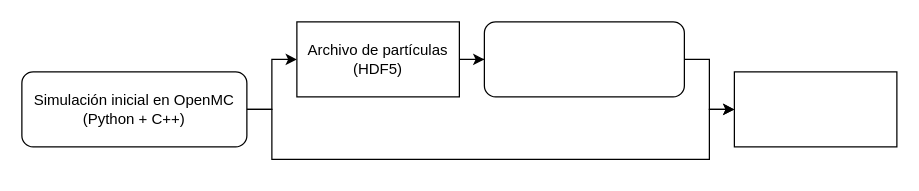
This 919x191 diagram has some shape labels left out. The shapes that lost their labels are listed below. From the top down, each one's centre as x and y in pixels, then its label:
pixel 583 59: Conversión HDF5 a MCPL (Python)
pixel 815 109: Archivo de partículas (MCPL)
